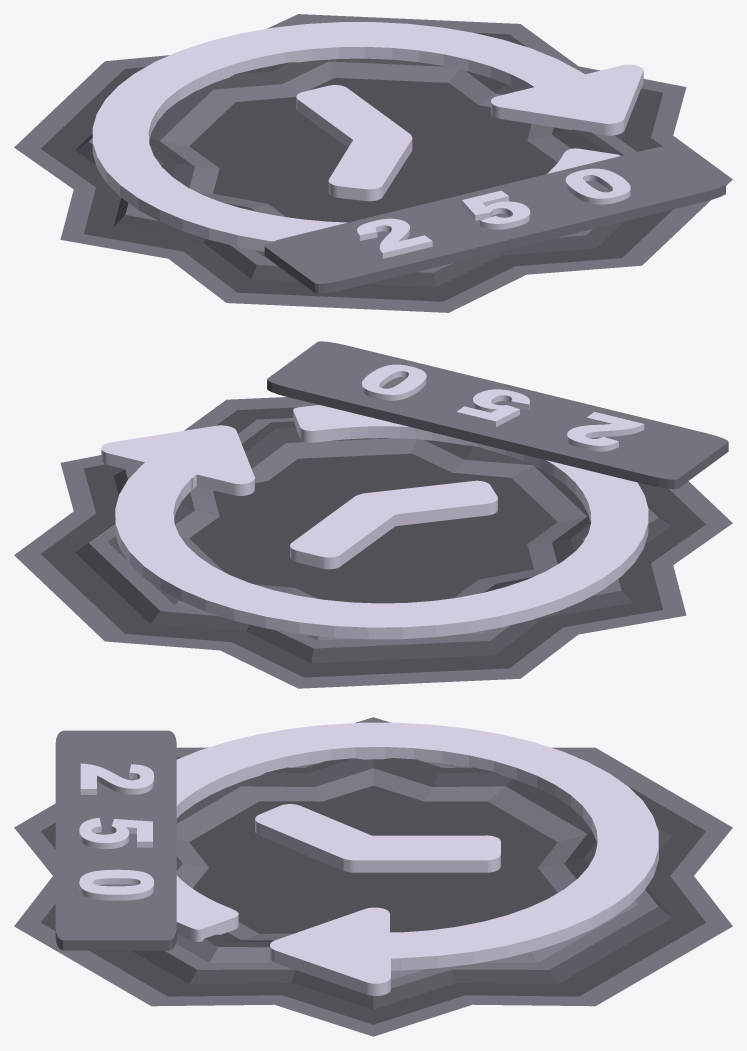
3 views of the same model, one above another, from view 1: azimuth 30°, elevation 25°; view 2: azimuth 150°, elevation 25°; view 3: azimuth 270°, elevation 25° (orthographic). The views are drawn at different scales.
Visible parts, largest first — view 1: HOUR_PLAY_250; view 2: HOUR_PLAY_250; view 3: HOUR_PLAY_250.
Part boxes in pixels (left/top/right/bottom): HOUR_PLAY_250: left=14, top=14, right=732, bottom=312; HOUR_PLAY_250: left=14, top=341, right=732, bottom=688; HOUR_PLAY_250: left=14, top=717, right=732, bottom=1036.
Bounding box in the file's own units: 8.18 × 0.5581 × 7.78.
